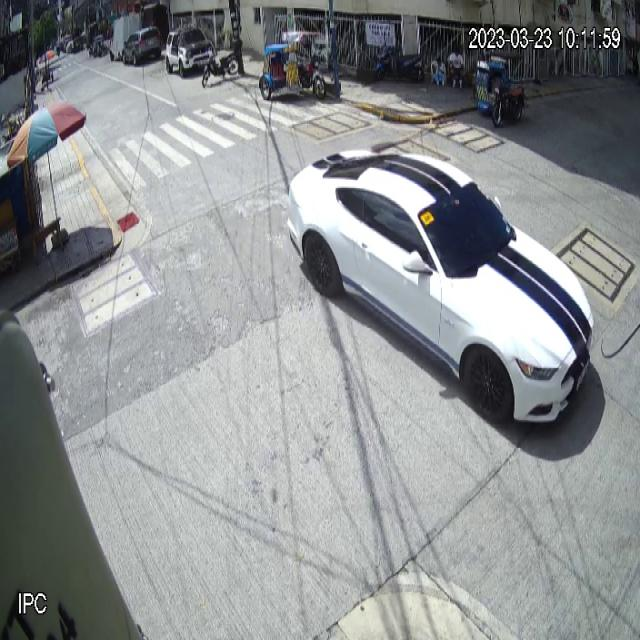Car: (287, 146, 595, 431)
Tricycle: (258, 31, 327, 101), (475, 51, 529, 127)
